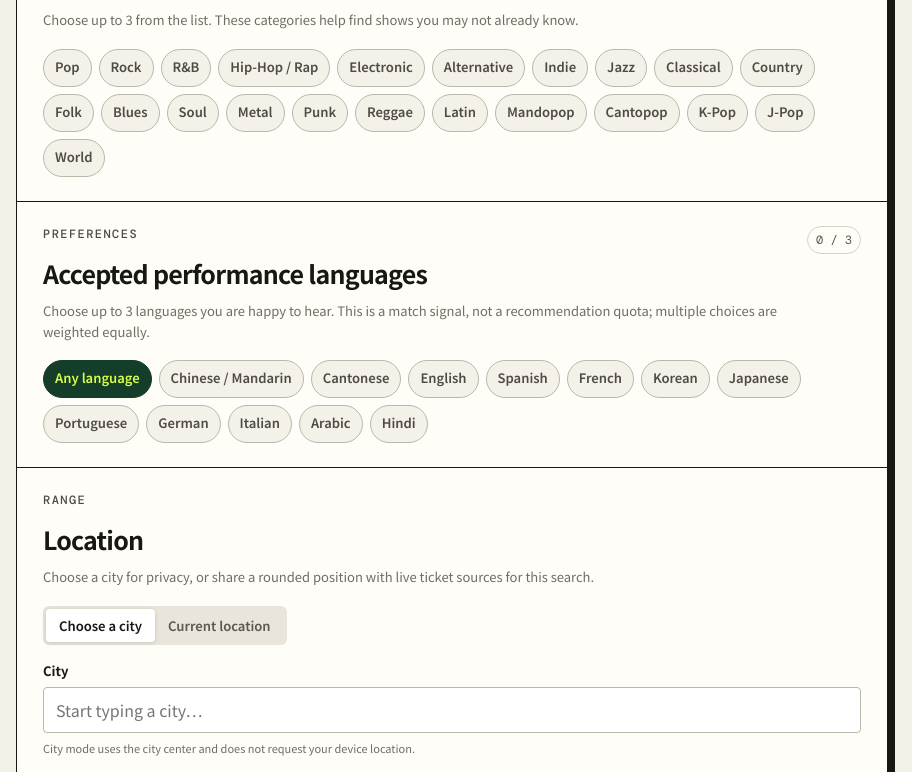
Test: simple preference form › limits categorical language selection to three
The image size is (912, 772).
(page scrolled)
Step 1. Click the button "Chinese / Mandarin" → click(231, 380), box [159,360,304,398]
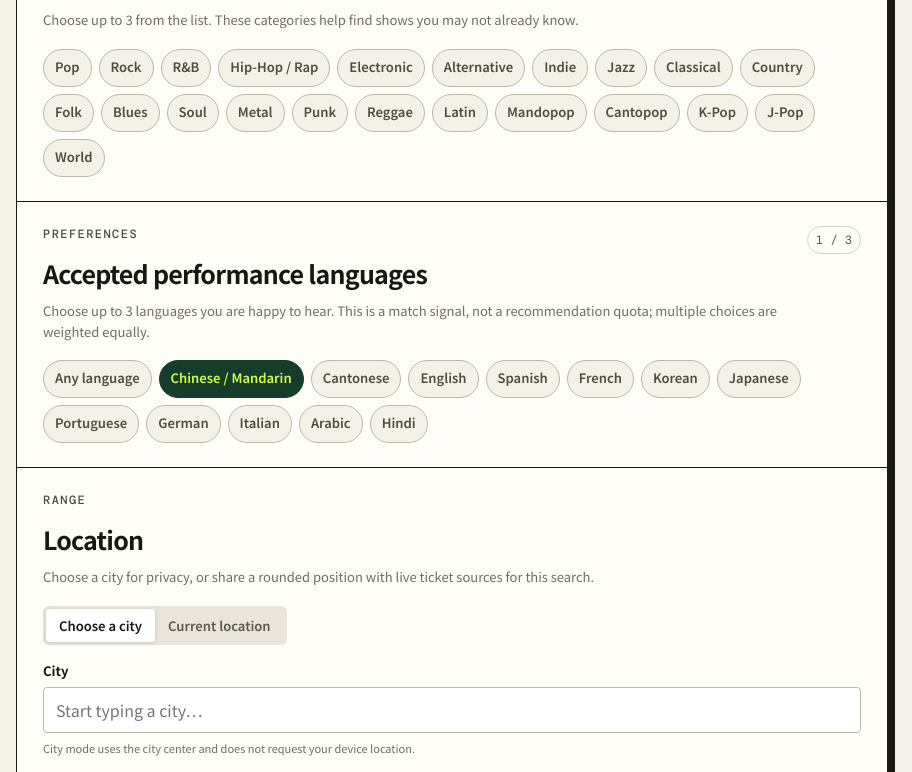
Step 2. Click the button "English" → click(444, 380), box [408,360,479,398]
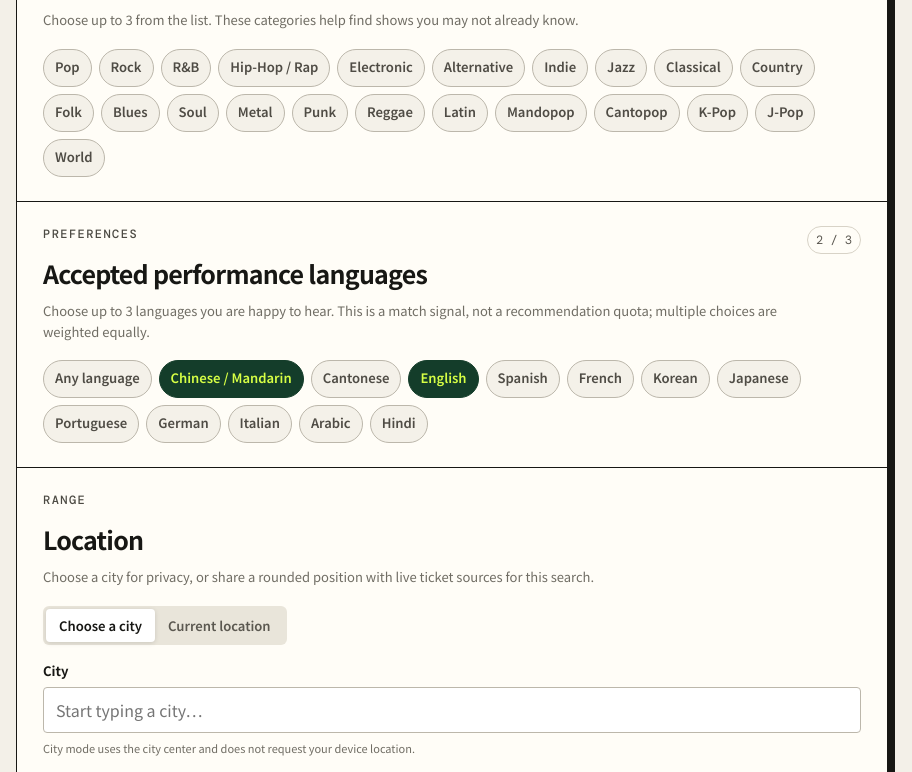
Step 3. Click the button "French" → click(600, 380), box [567,360,634,398]
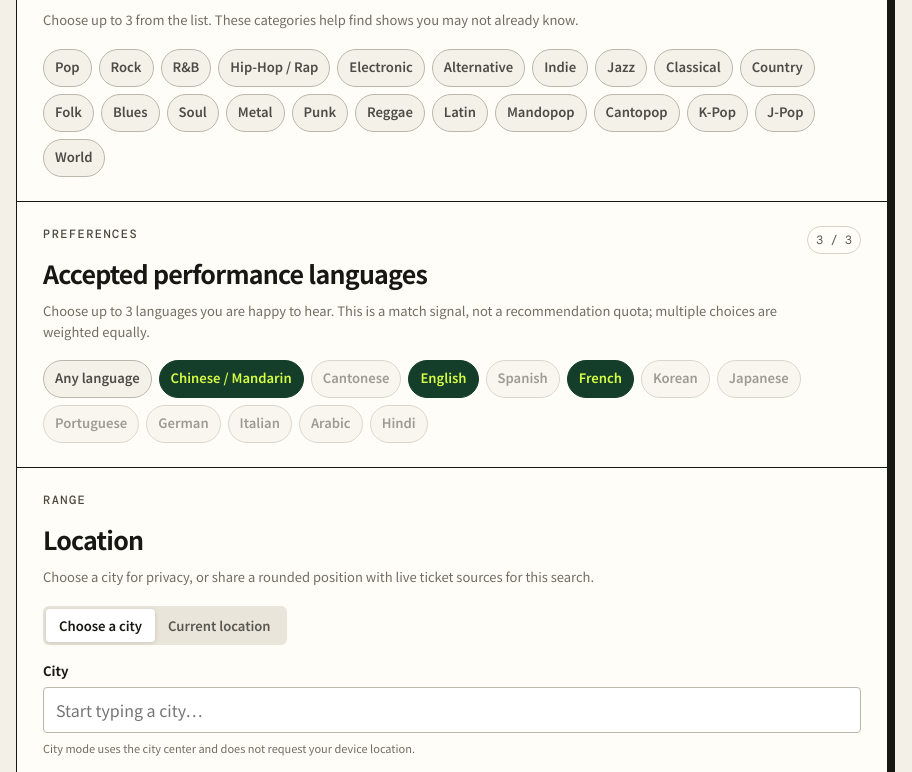
expect the button "Cantonese" is disabled: met, box [311,360,402,398]
expect the text "3 / 3" is shown: met, box [807,226,861,254]
